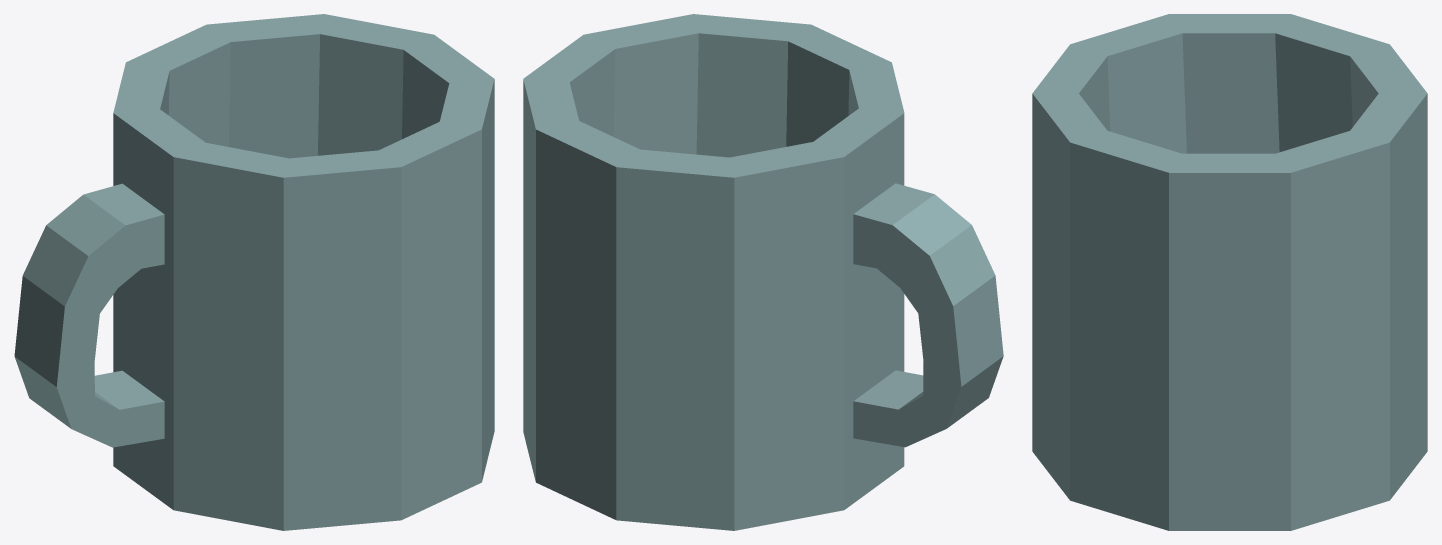
Rendered from cup.fbx.
3 views of the same model, side by side, from view 1: azimuth 30°, elevation 25°; view 2: azimuth 150°, elevation 25°; view 3: azimuth 270°, elevation 25° (orthographic).
Parts seen in each view (by area): view 1: Cube.005; view 2: Cube.005; view 3: Cube.005.
Part boxes in pixels (box(x1,y1,x2,y2)): Cube.005: box(14, 14, 494, 530); Cube.005: box(523, 14, 1003, 530); Cube.005: box(1032, 14, 1427, 530).
Size of the model in its own units: 116 by 91.45 by 91.45.
